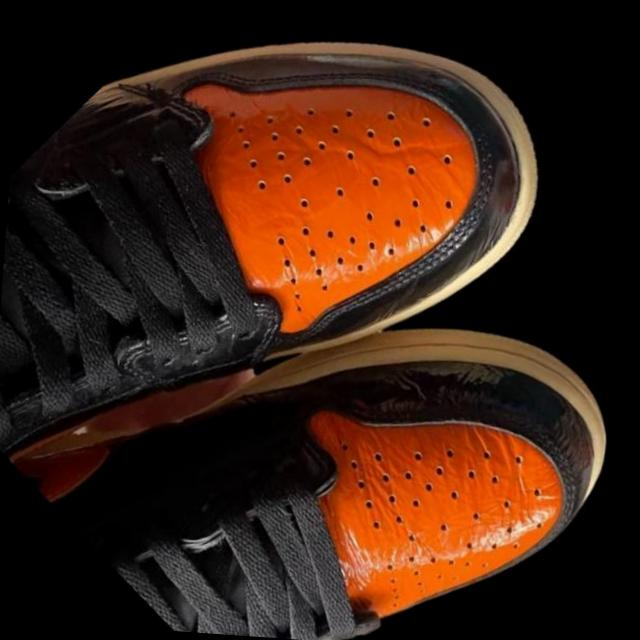nike_original_jordan: (0, 0, 601, 629), (1, 109, 640, 640)
